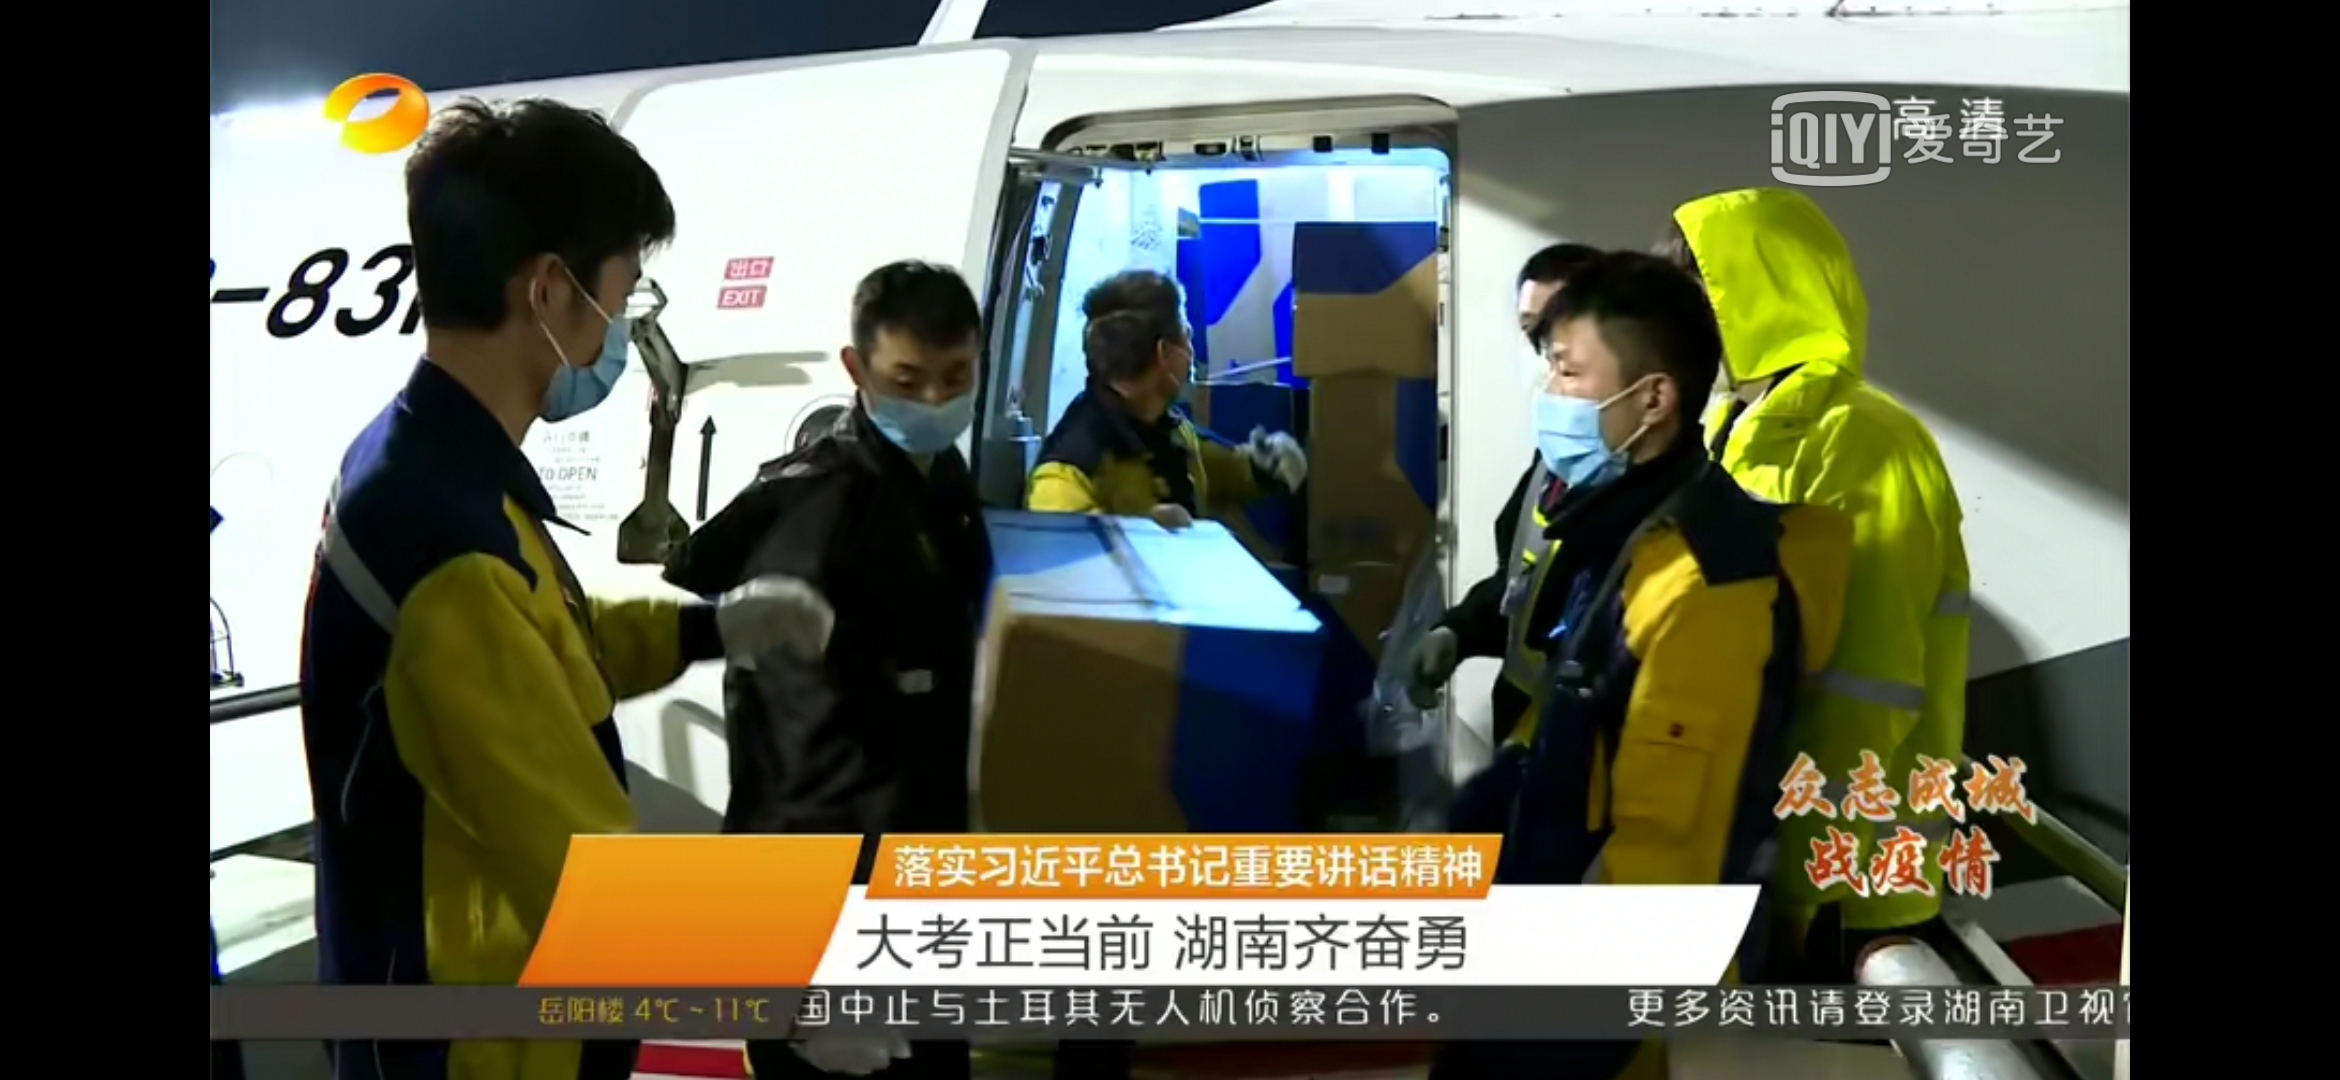correctlyWear: (509, 236, 645, 427), (1533, 339, 1692, 488), (849, 331, 994, 473), (1148, 313, 1198, 407)
